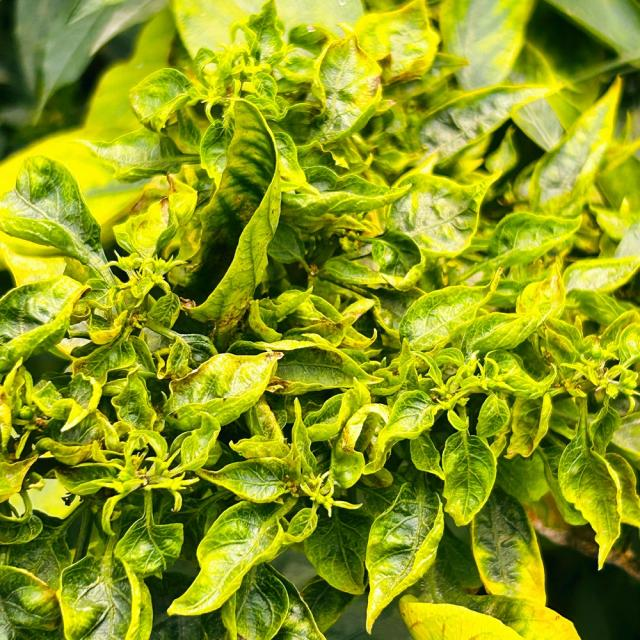Chilli_Leaf_Curl: (1, 0, 638, 638), (176, 97, 283, 337), (162, 348, 283, 430)
